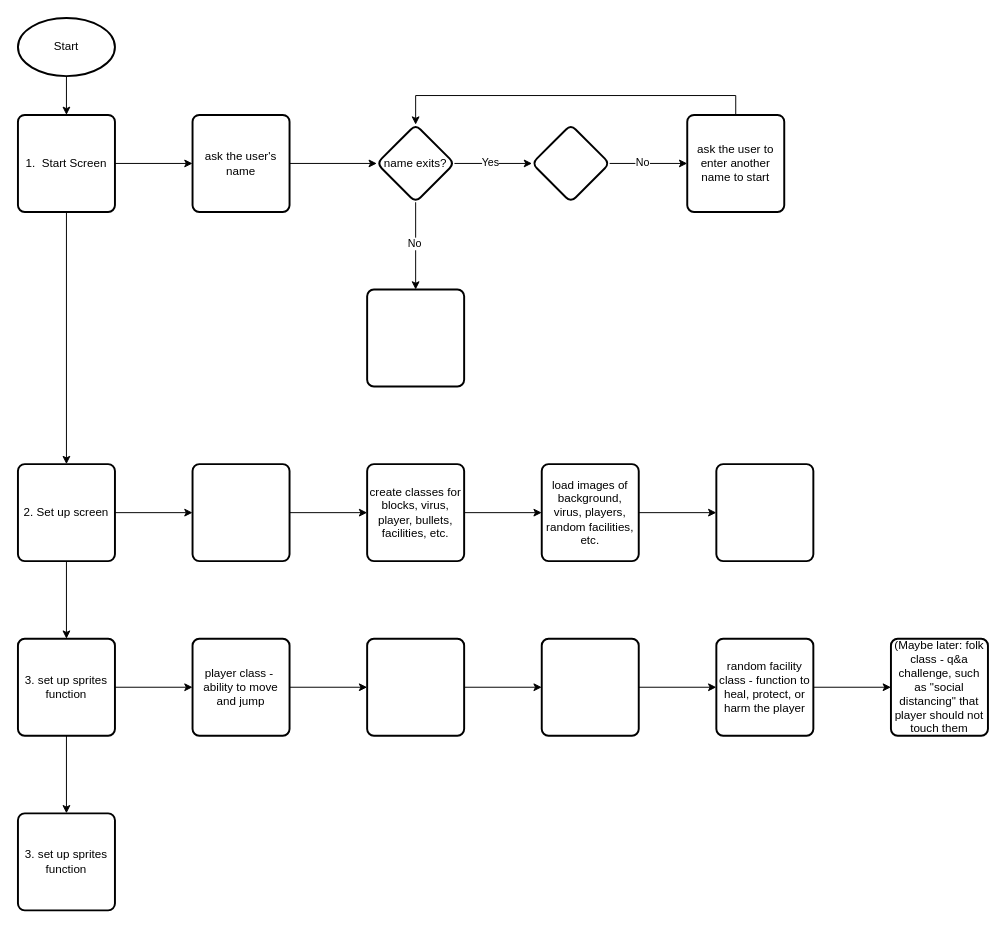
This 1005x927 diagram has some shape labels left out. Here are the shapes that lost their labels. From the top down, the box of each, then its label:
(531, 123, 610, 203): resume?
(366, 288, 465, 387): create a new class + a new list in the database file
(191, 463, 290, 562): set up screen scale and default walls, platforms, etc.
(715, 463, 814, 562): set the scales of each sprites
(366, 637, 465, 736): bullet class - limited amount, follow the player's position, speed of moving
(540, 637, 639, 736): virus class - randomly created, random movement, ability to attack the player
